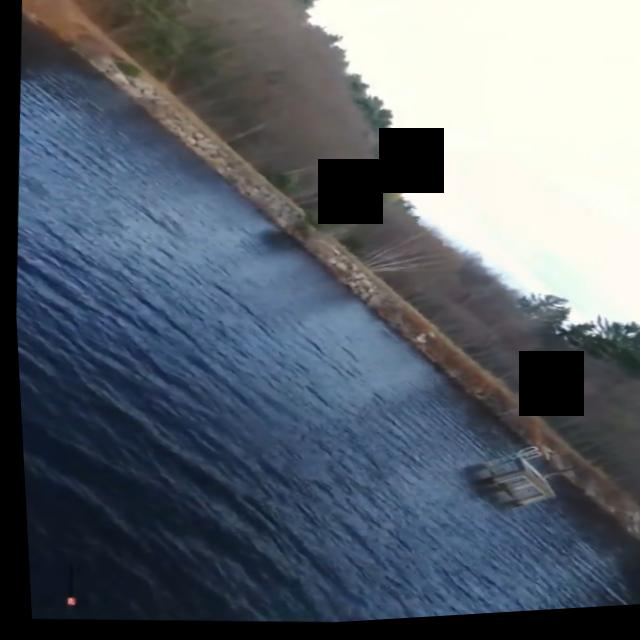Building: (468, 443, 572, 520)
Tree: (212, 73, 420, 204), (493, 308, 640, 420), (345, 226, 461, 304), (445, 288, 563, 361), (79, 0, 222, 37), (286, 199, 371, 248)
